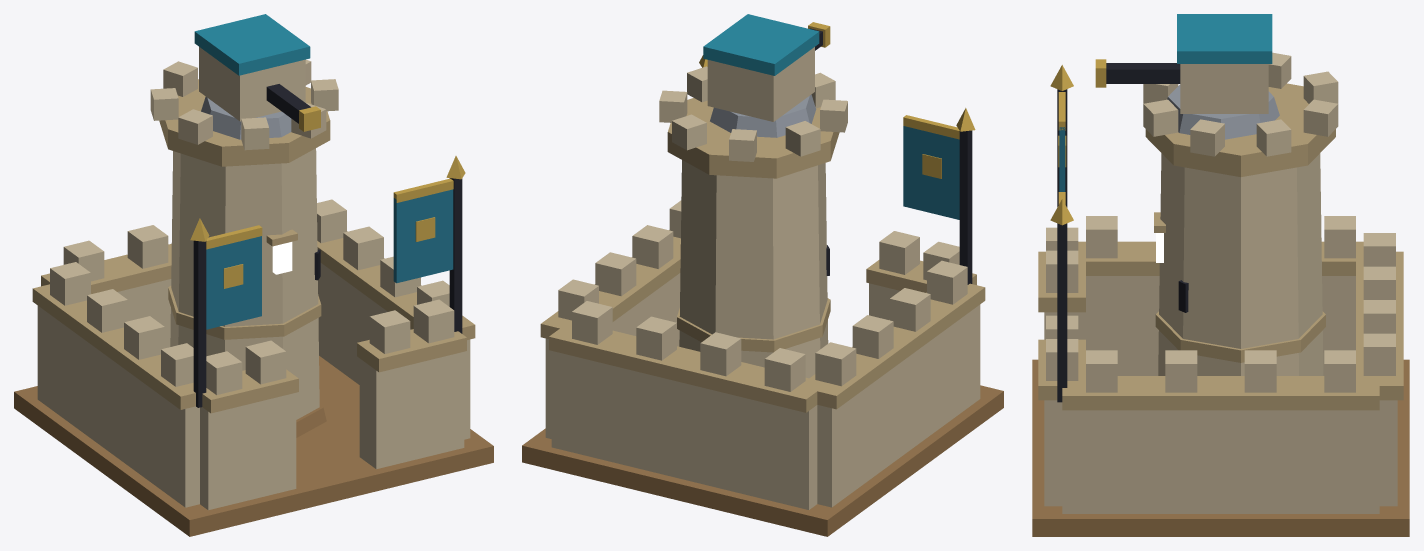
The model's file is outpost_t2.glb.
3 views of the same model, side by side, from view 1: azimuth 30°, elevation 25°; view 2: azimuth 150°, elevation 25°; view 3: azimuth 270°, elevation 25° (orthographic). The views are drawn at different scales.
Parts seen in each view (by area): view 1: body, part_turret, glow; view 2: body, part_turret; view 3: body, part_turret.
Boxes of the visible parts, bbox=[...] form: body: bbox=[14, 60, 493, 536]; part_turret: bbox=[194, 14, 320, 139]; glow: bbox=[272, 242, 292, 274]; body: bbox=[522, 55, 1003, 536]; part_turret: bbox=[703, 14, 830, 137]; body: bbox=[1032, 52, 1409, 536]; part_turret: bbox=[1095, 14, 1279, 139].
Bounding box in the file's own units: 1.9 × 2.36 × 1.9.
